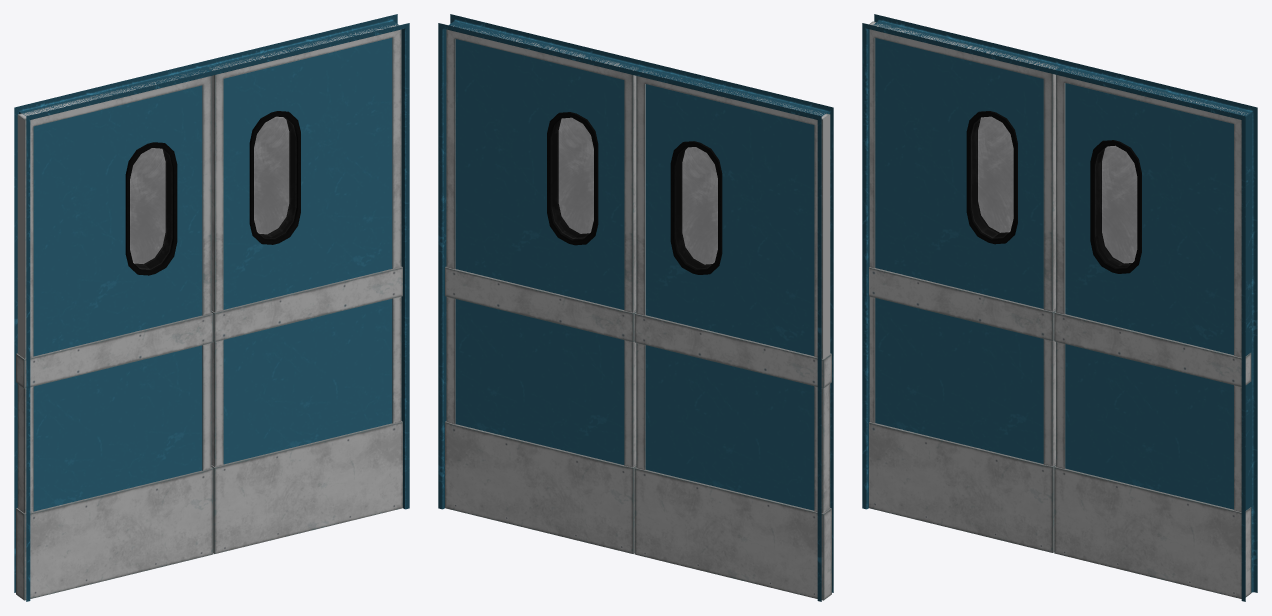
The model's file is warehouse_doors.glb.
3 renders of one model, left to right at view 1: azimuth 30°, elevation 25°; view 2: azimuth 150°, elevation 25°; view 3: azimuth 330°, elevation 25°, orthographic.
Visible parts, largest first — view 1: Door_Low, Door_Low1, Frame_Low, Window_Low, Window_Low1; view 2: Door_Low, Door_Low1, Frame_Low, Window_Low1, Window_Low; view 3: Door_Low1, Door_Low, Frame_Low, Window_Low, Window_Low1.
Part boxes in pixels (<box>): Door_Low: <box>16,70,213,600</box>; Door_Low1: <box>209,24,402,553</box>; Frame_Low: <box>14,14,409,601</box>; Window_Low: <box>254,116,296,238</box>; Window_Low1: <box>130,148,172,269</box>; Door_Low: <box>634,69,831,600</box>; Door_Low1: <box>445,25,638,553</box>; Frame_Low: <box>438,14,833,601</box>; Window_Low1: <box>675,147,717,268</box>; Window_Low: <box>551,117,593,238</box>; Door_Low1: <box>1054,68,1251,598</box>; Door_Low: <box>869,21,1058,552</box>; Frame_Low: <box>862,14,1257,601</box>; Window_Low: <box>1095,146,1137,267</box>; Window_Low1: <box>971,116,1013,238</box>.
Bounding box in the file's own units: 179 × 217 × 9.81.
Materials: 1 (1 with a texture image).
